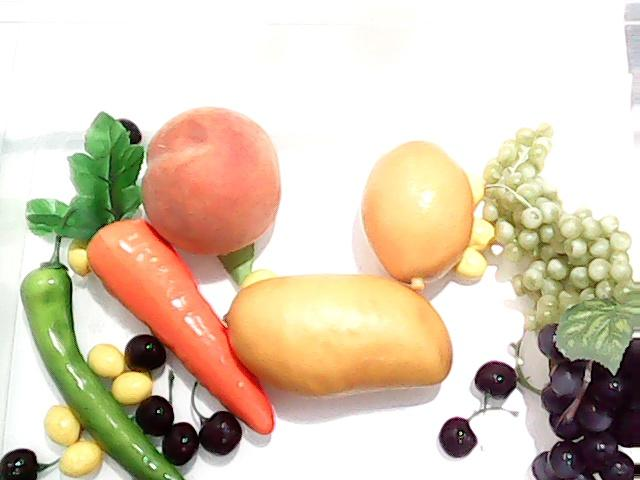carrot: (24, 109, 276, 436)
grape: (480, 112, 638, 334), (532, 292, 640, 480)
lemon: (360, 138, 476, 296)
mango: (224, 273, 452, 398)
peach: (144, 108, 280, 255)
pepper: (15, 219, 193, 477)
